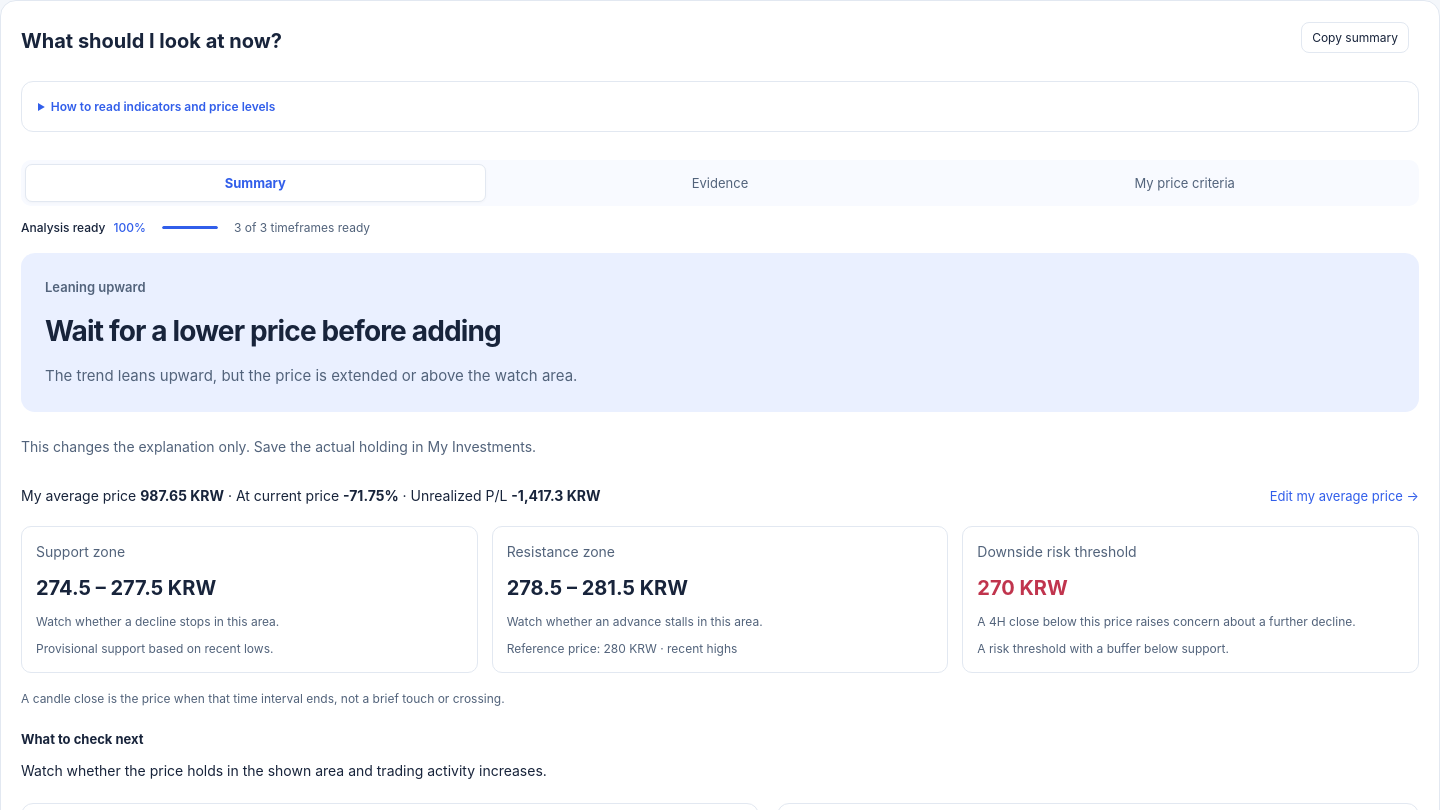
Test: CryptoDecisionPanel › keeps expert evidence collapsed and copies the same price plan without personal inputs
Expected: the element "Key evidence" is not shown
Click the tab "Evidence" at (720, 183), box [490,164,950,202]
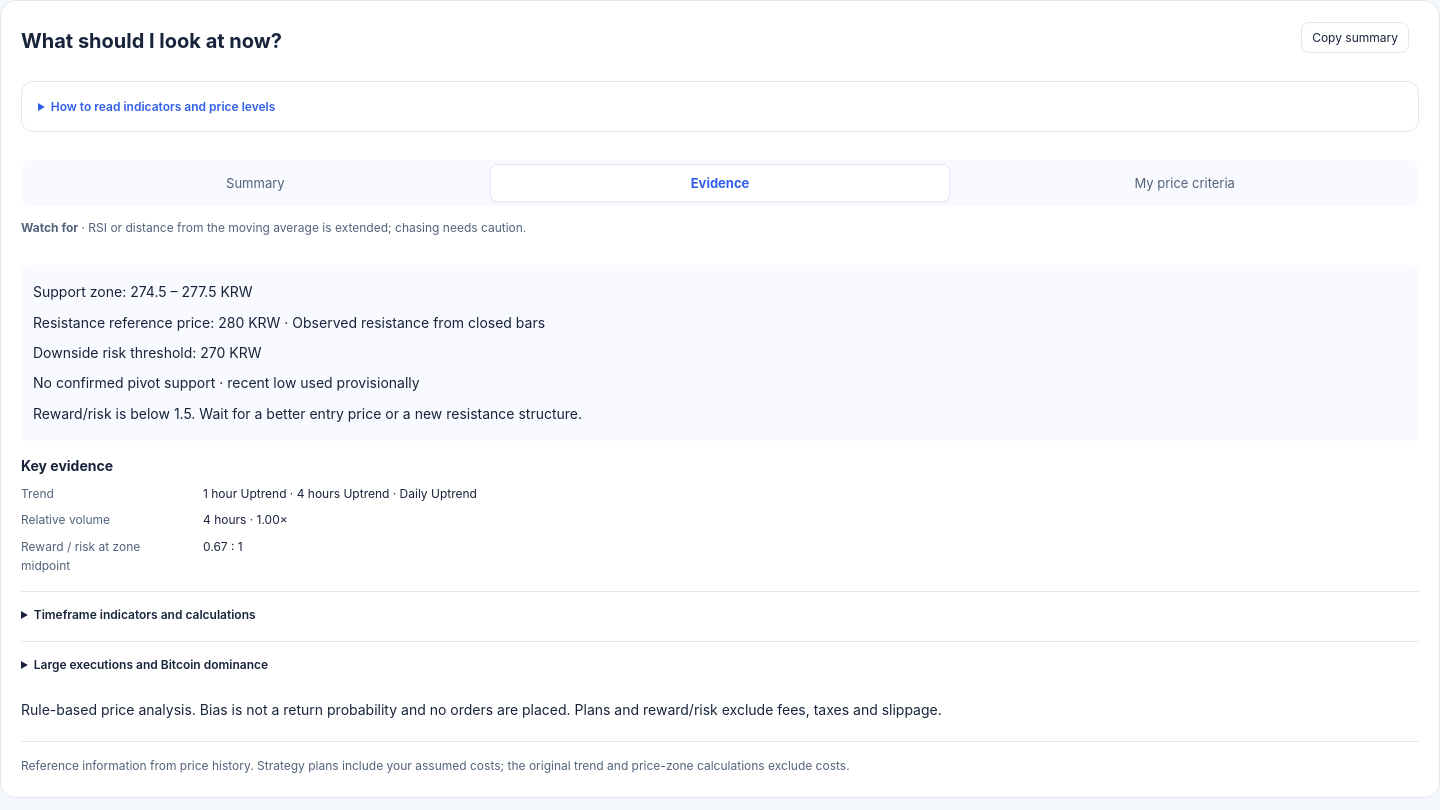
Click the button "Copy summary" at (1355, 37), box [1301,22,1409,52]
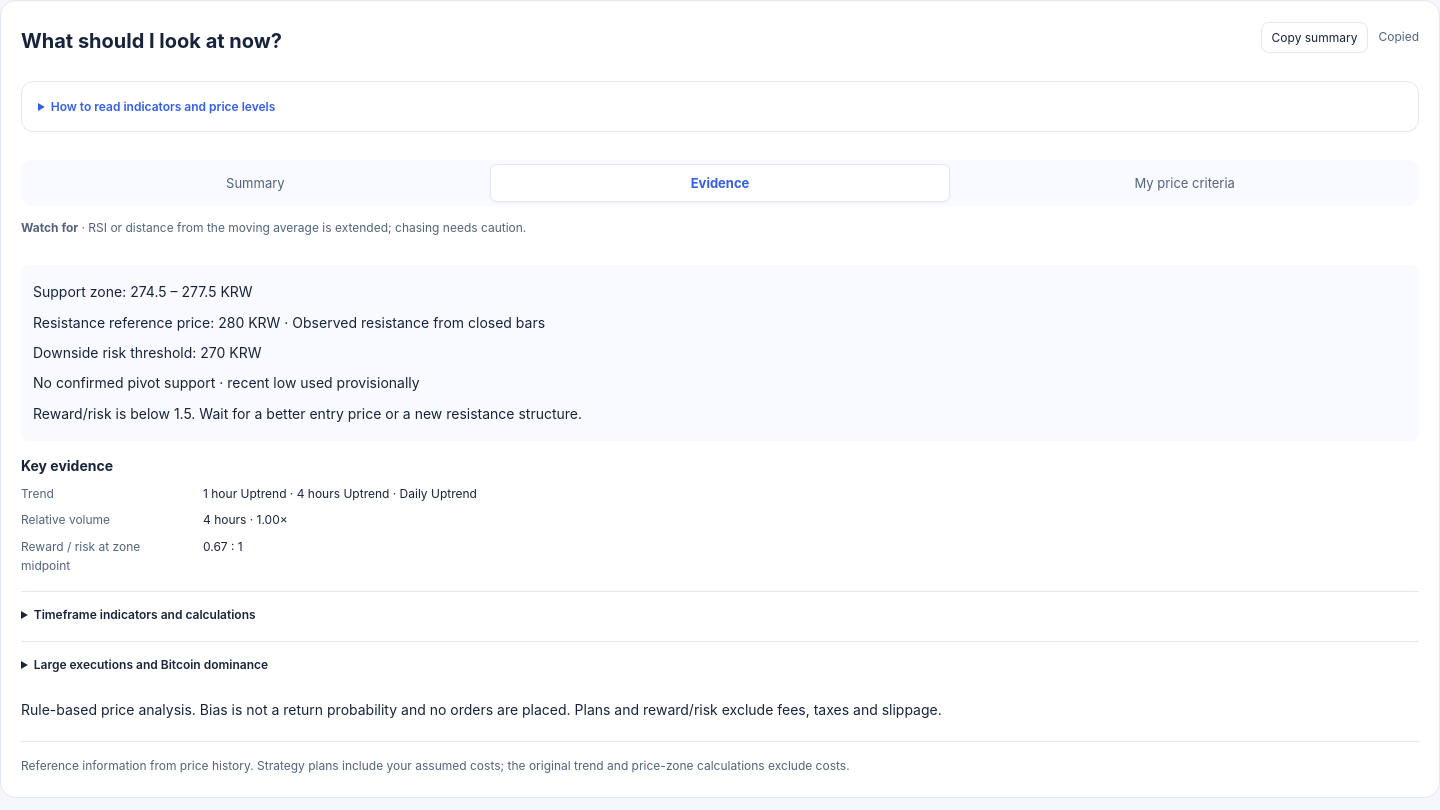
Result: the text "Copied" is shown at [1378,27,1419,47]
